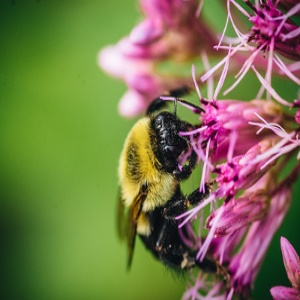bee: (116, 89, 227, 283)
